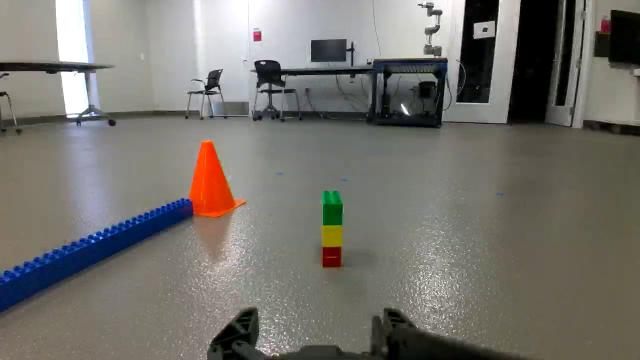lego: (318, 182, 349, 278)
